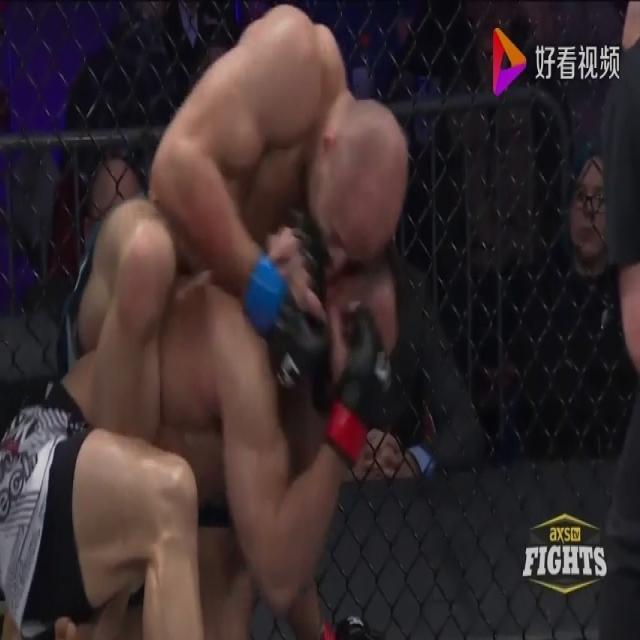fight: (0, 0, 409, 638)
